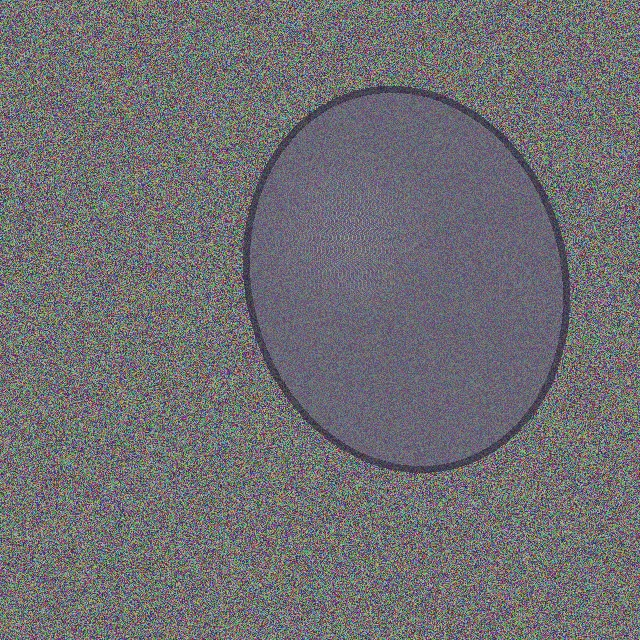lens: (246, 89, 566, 469)
